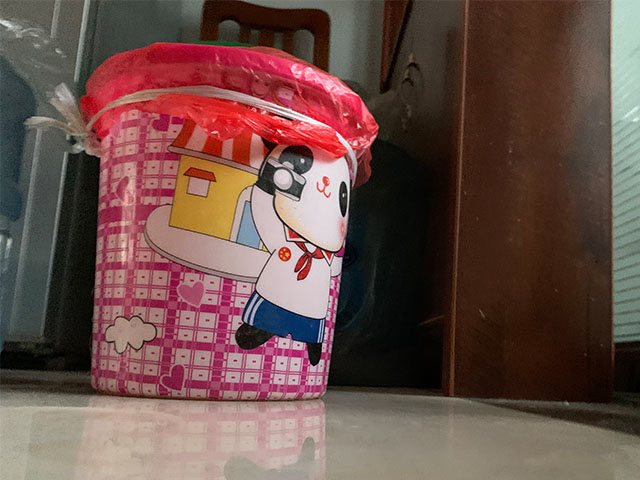cabinet: (378, 1, 616, 401)
trashcan: (77, 40, 381, 402)
